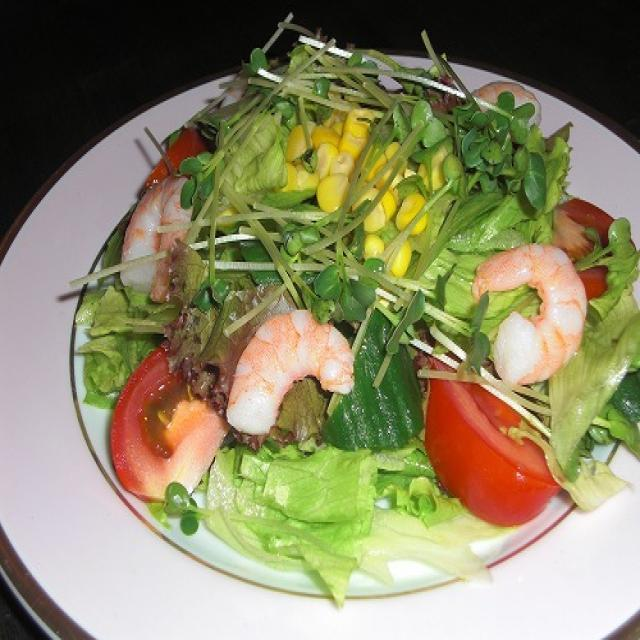Green Salad: (106, 57, 626, 527)
